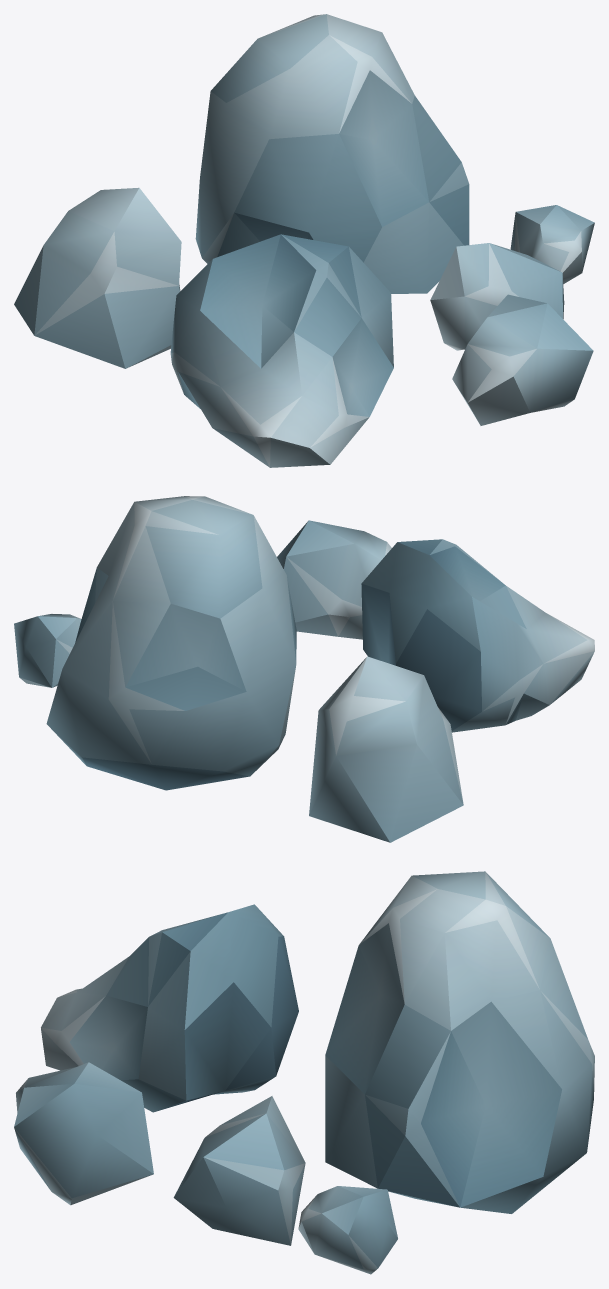
File: Silver_Nuggets.glb
The picture shows the model from 3 angles, top to bottom: view 1: azimuth 30°, elevation 25°; view 2: azimuth 150°, elevation 25°; view 3: azimuth 270°, elevation 25°; orthographic projection. The views are drawn at different scales.
Visible parts, largest first — view 1: Silver_Nuggets; view 2: Silver_Nuggets; view 3: Silver_Nuggets.
Boxes of the visible parts, x1,y1,x2,y2 form: Silver_Nuggets: [14, 14, 594, 467]; Silver_Nuggets: [14, 496, 594, 842]; Silver_Nuggets: [14, 871, 594, 1274].
Size of the model in its own units: 0.9288 by 0.4749 by 0.8501.
1 material, 1 textured.
